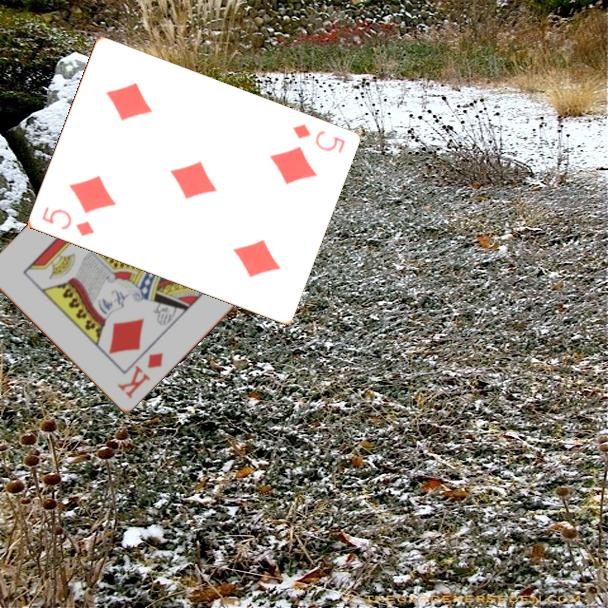d05: (288, 120, 348, 157), (38, 203, 97, 239)
d13: (113, 349, 166, 402)
